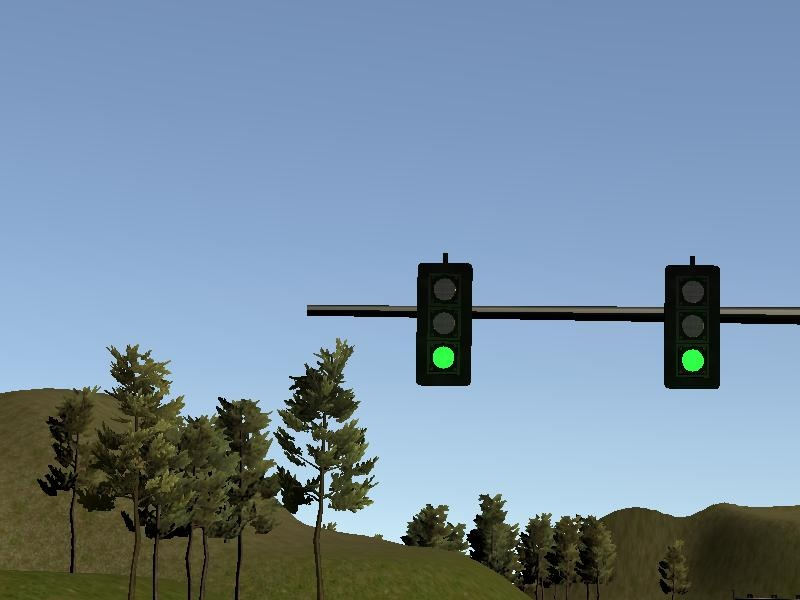GREEN: (664, 264, 719, 388), (416, 262, 471, 386)
